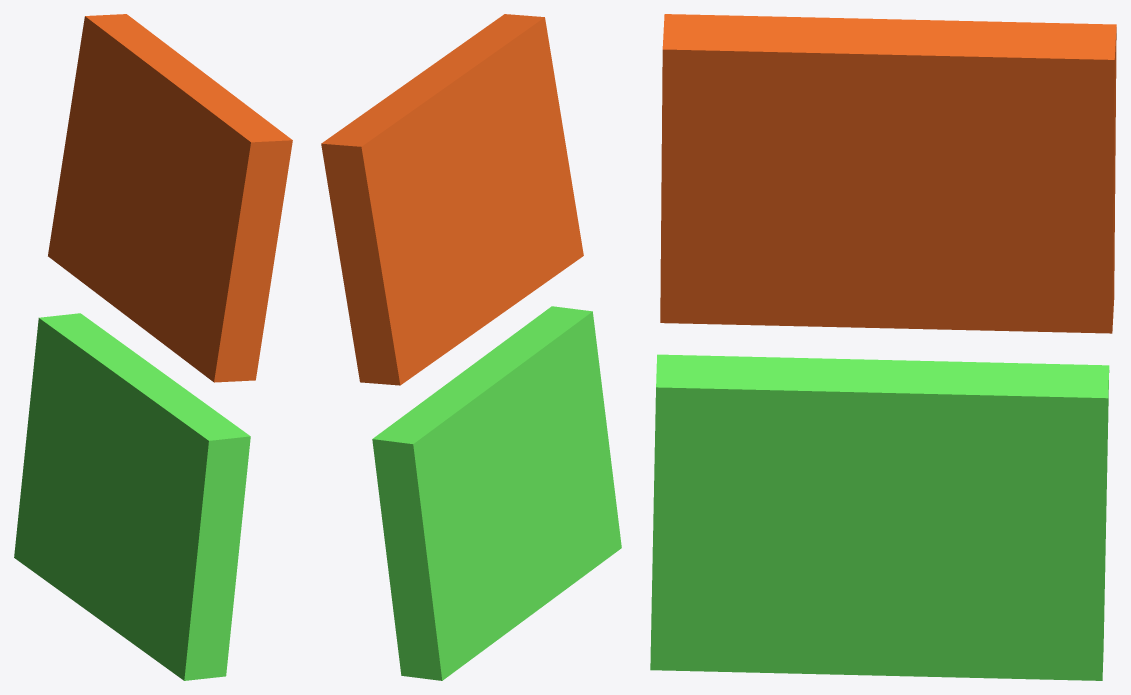
File: Keycard Padlock indicator lights (for all of them).fbx
3 renders of one model, left to right at view 1: azimuth 30°, elevation 25°; view 2: azimuth 150°, elevation 25°; view 3: azimuth 270°, elevation 25°, orthographic. The views are drawn at different scales.
Parts seen in each view (by area): view 1: 994cb428-7016-4dc6-921b-a948b4d947d5; view 2: 994cb428-7016-4dc6-921b-a948b4d947d5; view 3: 994cb428-7016-4dc6-921b-a948b4d947d5.
Boxes of the visible parts, x1,y1,x2,y2 form: 994cb428-7016-4dc6-921b-a948b4d947d5: (14, 14, 292, 680); 994cb428-7016-4dc6-921b-a948b4d947d5: (321, 14, 621, 680); 994cb428-7016-4dc6-921b-a948b4d947d5: (650, 14, 1116, 680).
Size of the model in its own units: 2306 by 9574 by 5922.
